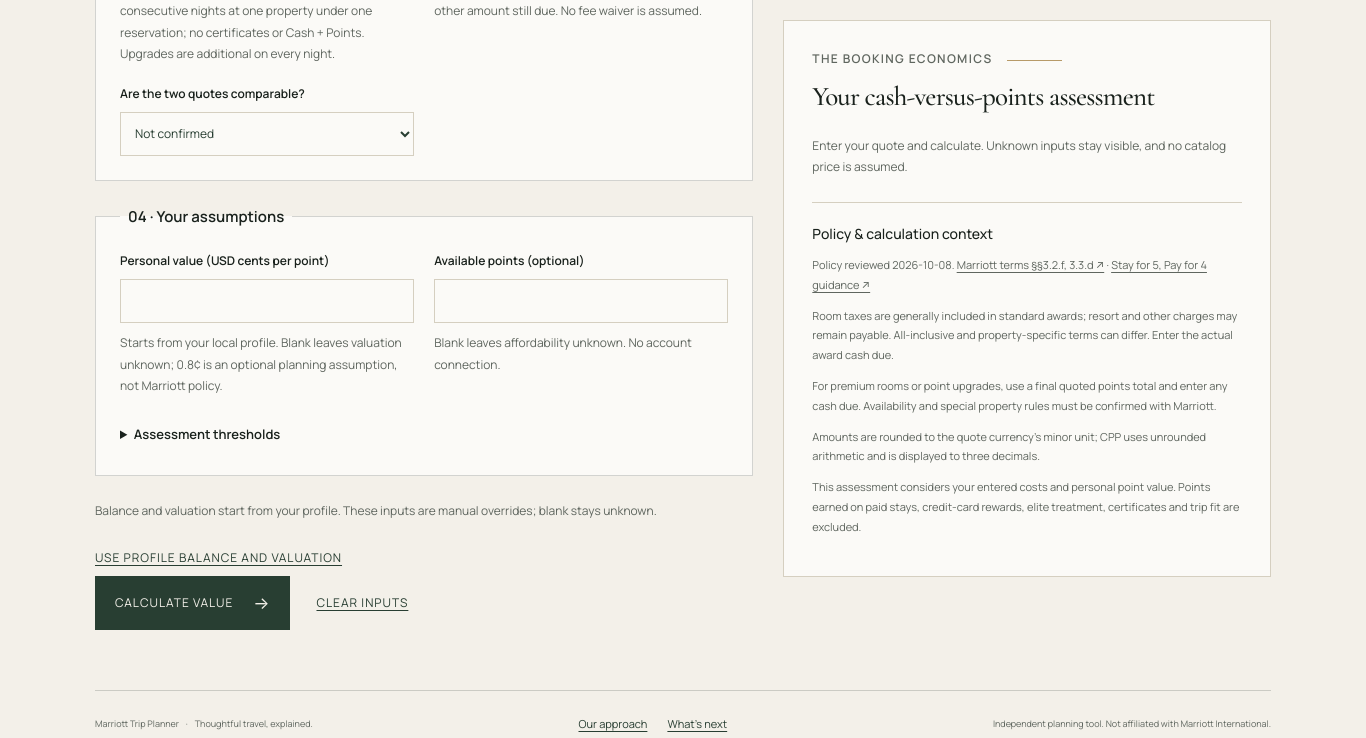
Test: Manual points calculator UI › starts with unknown prices and exposes dated policy links
(page scrolled)
Click the button "Calculate value →" at [193, 603], box 95,576 -> 290,630
(page scrolled)
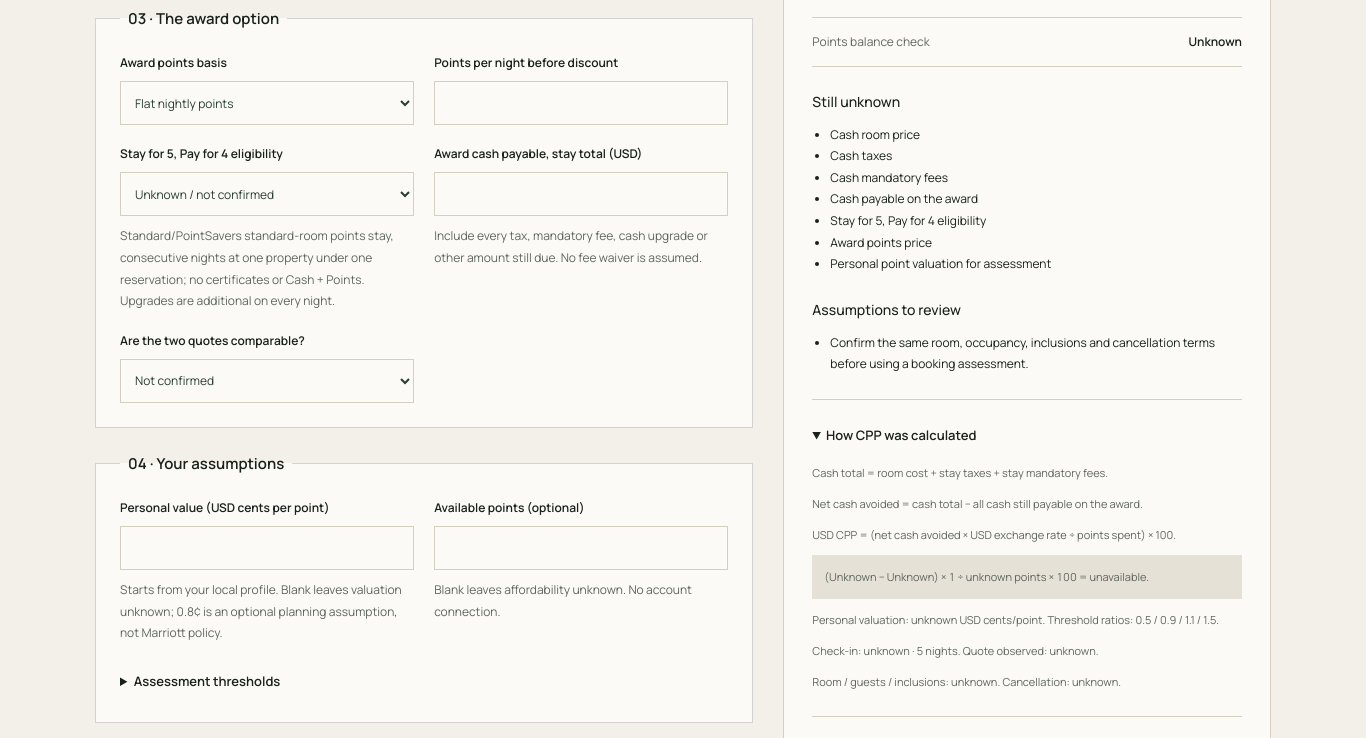
Expected: the element named "Calculation results" shows "Cash room price", 830,126 -> 920,143
